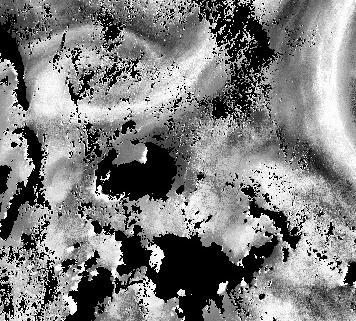AE: (27, 23, 171, 131)
